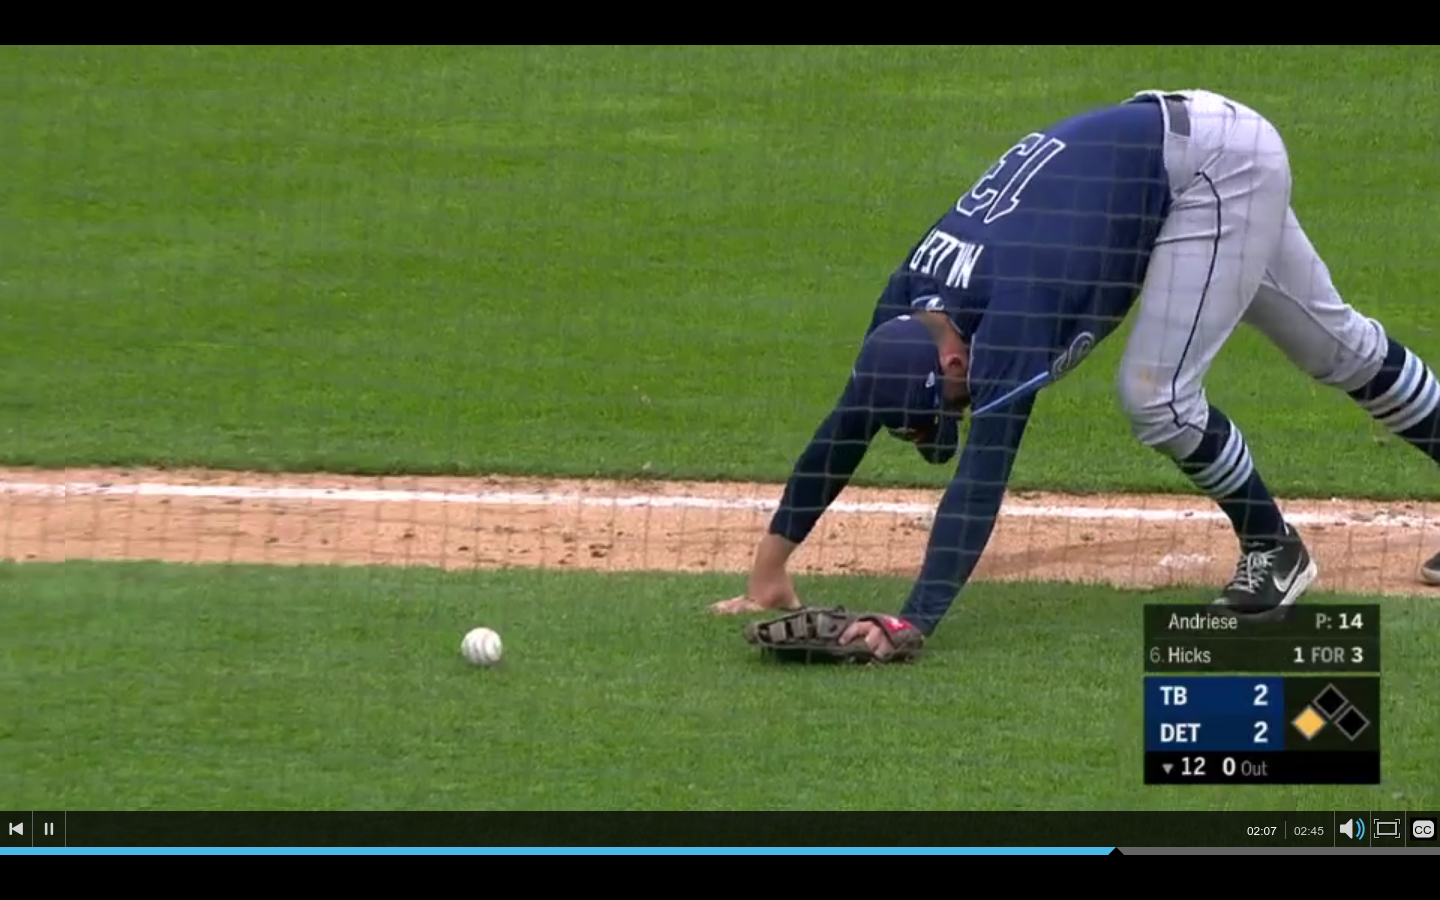baseball: (453, 622, 508, 677)
baseball player: (701, 73, 1440, 671)
